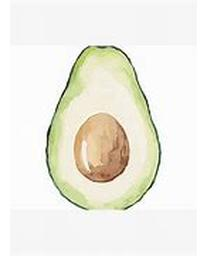avocado: (46, 46, 162, 210)
